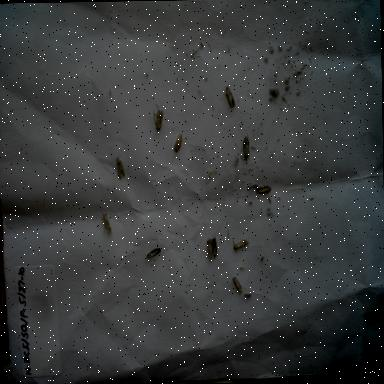pbw: (226, 270, 250, 301), (98, 210, 117, 241), (170, 128, 190, 156), (231, 232, 251, 258), (144, 244, 166, 262), (240, 134, 254, 162), (152, 108, 166, 136), (224, 84, 238, 110), (115, 155, 128, 181), (254, 182, 274, 198), (211, 234, 222, 258), (203, 238, 213, 260)
